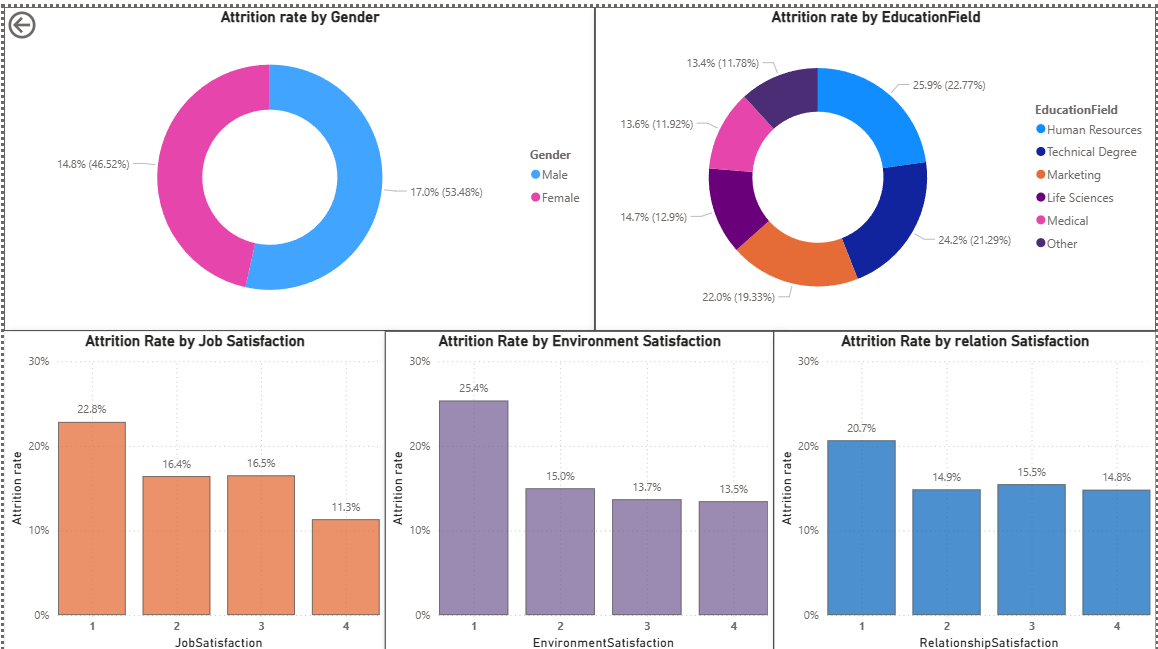

The page's visual inventory and layout, read from the dashboard file:
{"tool":"powerbi","page":{"name":"Page 3","canvas":[1280,720],"ordinal":2},"visuals":[{"type":"actionButton","box":[0,0,100,40],"z":0},{"type":"donutChart","fields":{"Category":["hr_employee_attrition.Gender"],"Y":["hr_employee_attrition.Attrition rate"]},"box":[0,0,656.7,360],"z":1000},{"type":"donutChart","fields":{"Category":["hr_employee_attrition.EducationField"],"Y":["hr_employee_attrition.Attrition rate"]},"box":[656.7,0,623.3,360],"z":2000},{"type":"clusteredColumnChart","title":"Attrition Rate by Job Satisfaction","fields":{"Y":["hr_employee_attrition.Attrition rate"],"Category":["hr_employee_attrition.JobSatisfaction"]},"box":[0,360,423.3,360],"z":3000},{"type":"clusteredColumnChart","title":"Attrition Rate by Environment Satisfaction","fields":{"Y":["hr_employee_attrition.Attrition rate"],"Category":["hr_employee_attrition.EnvironmentSatisfaction"]},"box":[423.3,360,431.7,360],"z":4000},{"type":"clusteredColumnChart","title":"Attrition Rate by relation Satisfaction","fields":{"Y":["hr_employee_attrition.Attrition rate"],"Category":["hr_employee_attrition.RelationshipSatisfaction"]},"box":[855,360,425,360],"z":5000}]}

Visuals, with their boxes in screenshot pixels (x1, y1, x2, y2), scaled from the page's 1280x720 canvas onto the 1158x649 screenshot:
actionButton: detection(0, 0, 90, 36)
donutChart - hr_employee_attrition.Gender x hr_employee_attrition.Attrition rate: detection(0, 0, 594, 324)
donutChart - hr_employee_attrition.EducationField x hr_employee_attrition.Attrition rate: detection(594, 0, 1157, 324)
"Attrition Rate by Job Satisfaction" clusteredColumnChart: detection(0, 324, 383, 648)
"Attrition Rate by Environment Satisfaction" clusteredColumnChart: detection(383, 324, 774, 648)
"Attrition Rate by relation Satisfaction" clusteredColumnChart: detection(774, 324, 1157, 648)
